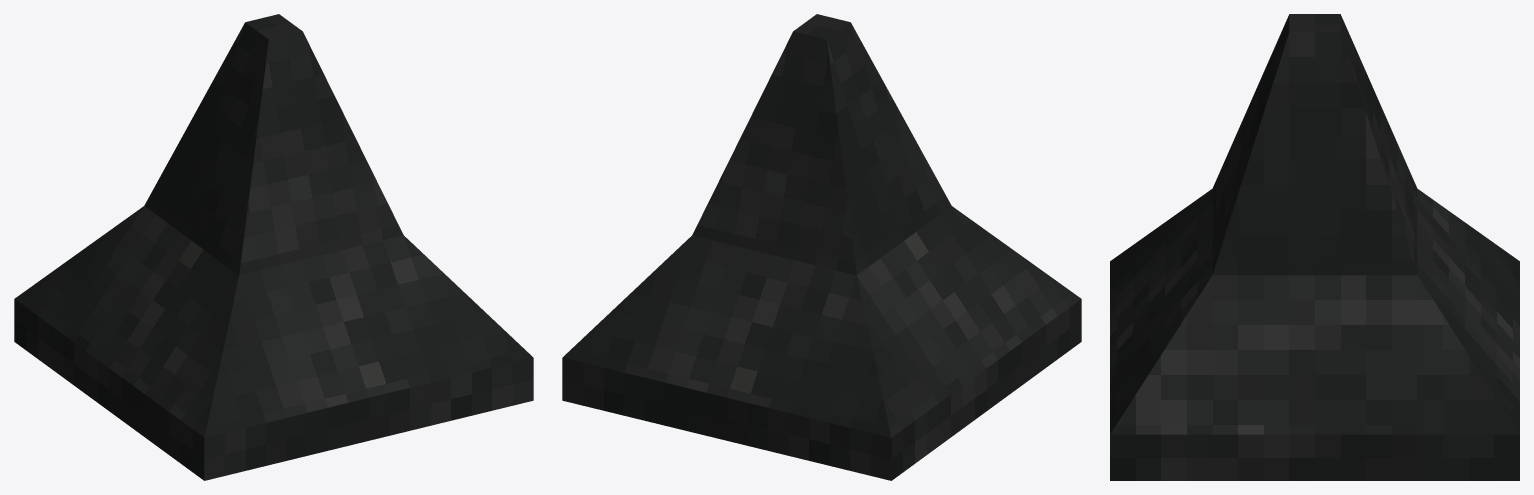
File: wall_spike_large_vert.obj
3 renders of one model, left to right at view 1: azimuth 30°, elevation 25°; view 2: azimuth 150°, elevation 25°; view 3: azimuth 270°, elevation 25°, orthographic. The views are drawn at different scales.
Parts seen in each view (by area): view 1: cuboid; view 2: cuboid; view 3: cuboid.
Boxes of the visible parts, box(x1,y1,x2,y2) form: cuboid: box(14, 14, 533, 480); cuboid: box(562, 14, 1081, 480); cuboid: box(1110, 14, 1519, 480).
Size of the model in its own units: 1 by 1 by 1.
